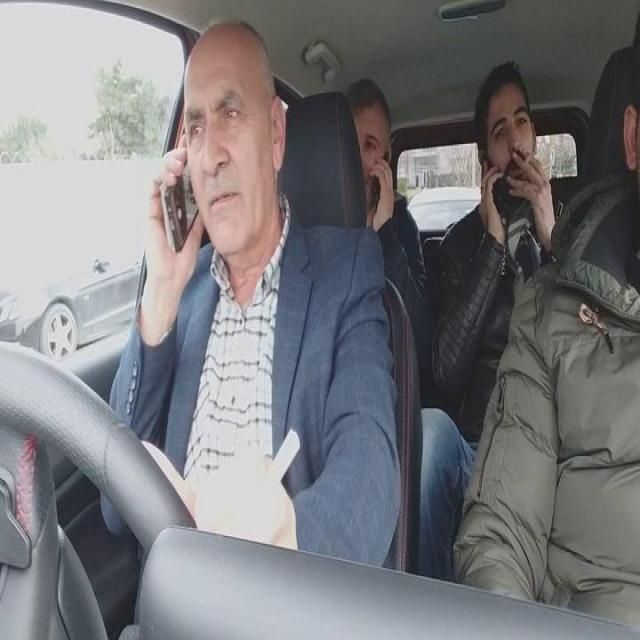phone: (160, 159, 198, 256)
